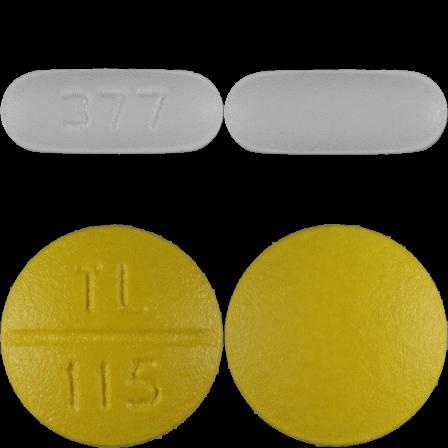66336-915: (0, 0, 224, 224)
